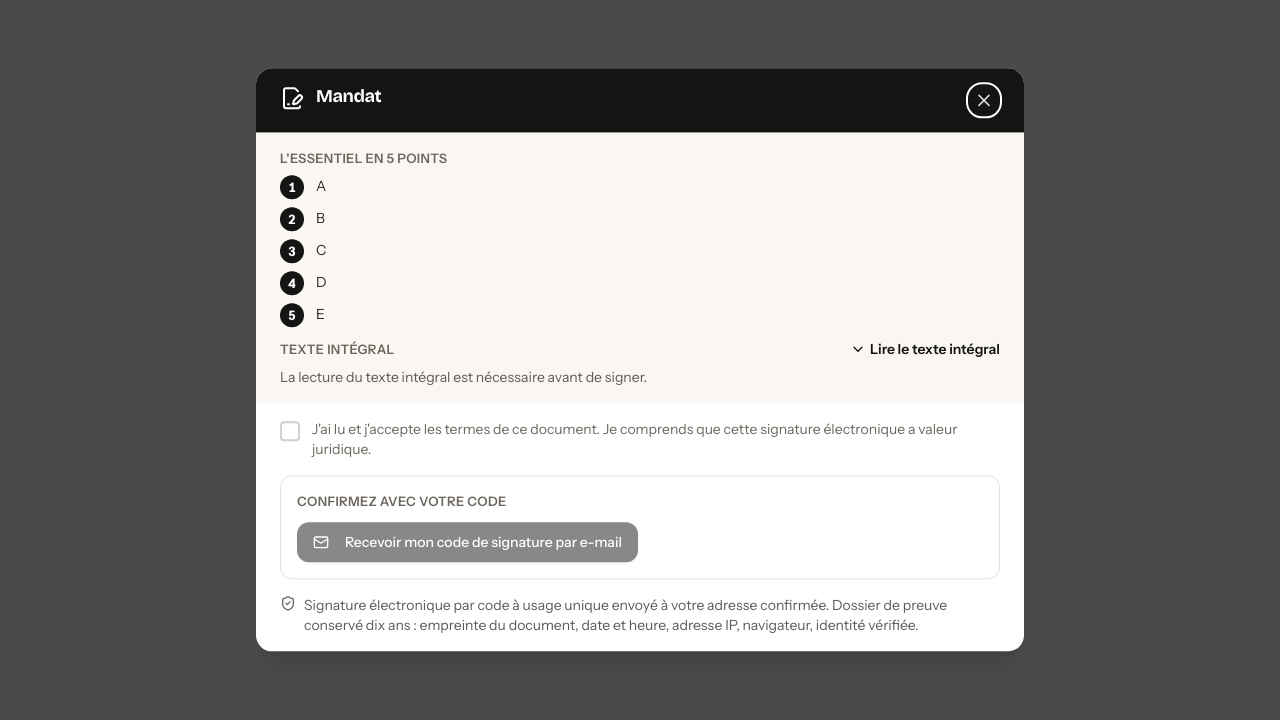
Test: OtpSignatureDialog › résumé, texte replié, case activée après lecture
Check: the number of list items is 5, box [280, 176, 326, 200]; [280, 208, 325, 232]; [280, 240, 326, 264]; [280, 272, 326, 296]; [280, 304, 325, 328]
Click the button with test id "otp-toggle-document": click(925, 350) [850, 340, 1000, 360]
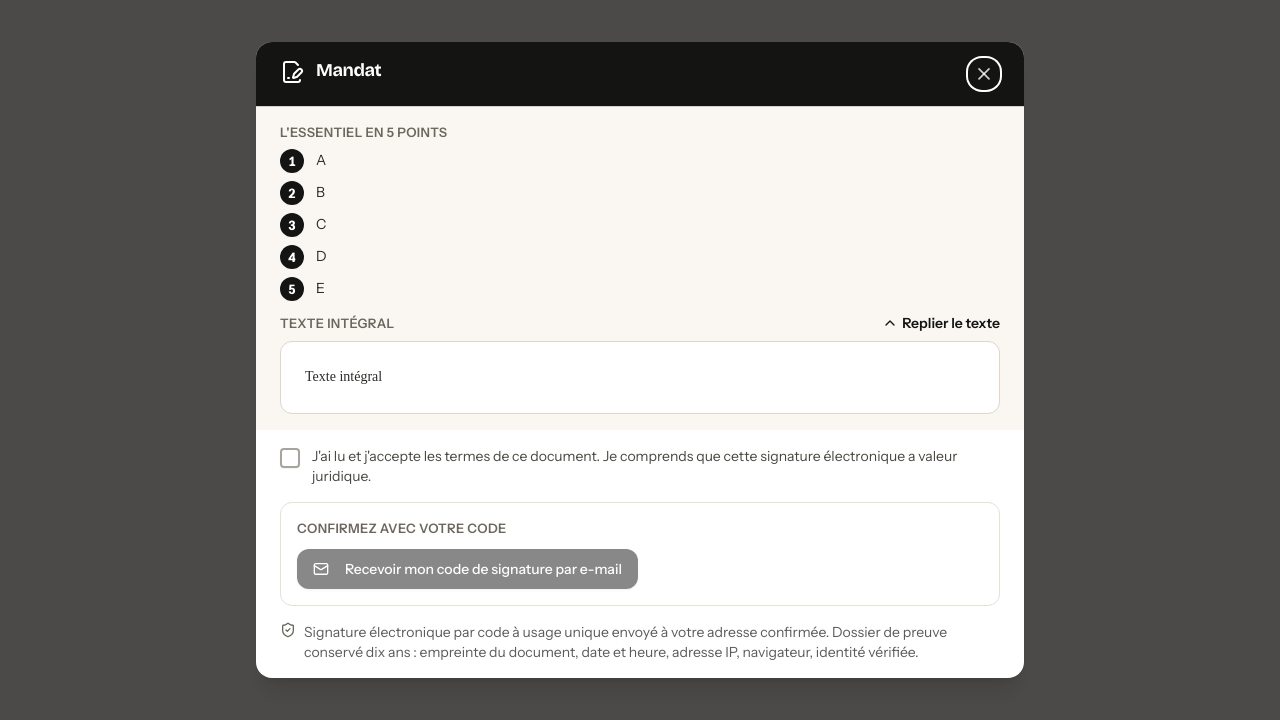
Check: the element with test id "otp-document" is shown, box [280, 341, 1000, 414]
Check: the checkbox with test id "otp-accept" does not have attribute data-disabled, box [280, 448, 300, 468]
